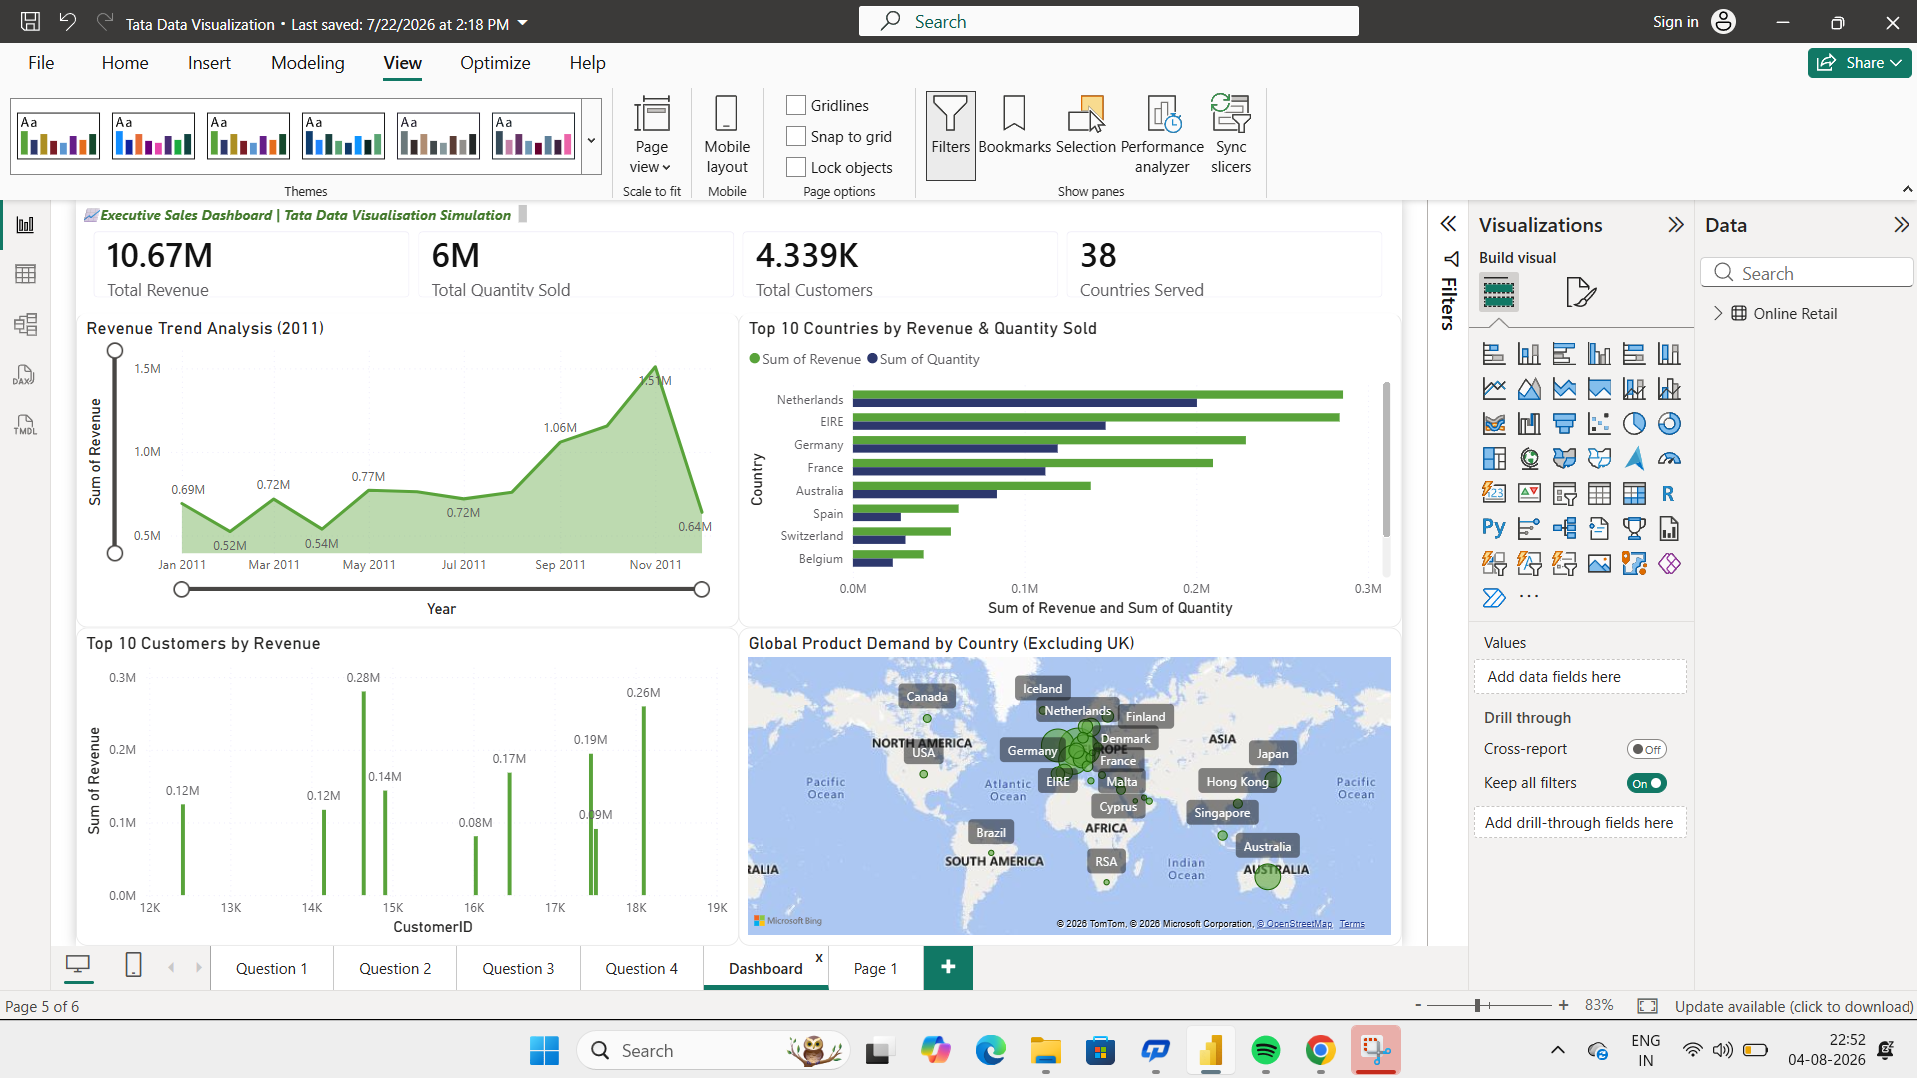

The page's visual inventory and layout, read from the dashboard file:
{"tool":"powerbi","page":{"name":"Dashboard","canvas":[1280,720],"ordinal":4},"visuals":[{"type":"lineChart","title":"Revenue Trend Analysis (2011)","fields":{"Category":["Online Retail.InvoiceDate.Variation.Date Hierarchy.Year","Online Retail.InvoiceDate.Variation.Date Hierarchy.Month"],"Y":["Sum(Online Retail.Revenue)"]},"box":[0,108.8,640,303.8],"z":0},{"type":"clusteredBarChart","title":"Top 10 Countries by Revenue & Quantity Sold","fields":{"Y":["Sum(Online Retail.Revenue)","Sum(Online Retail.Quantity)"],"Category":["Online Retail.Country"]},"box":[640,108.8,640,303.8],"z":1000},{"type":"clusteredColumnChart","title":"Top 10 Customers by Revenue","fields":{"Category":["Online Retail.CustomerID"],"Y":["Sum(Online Retail.Revenue)"]},"box":[0,412.5,640,307.5],"z":2000},{"type":"map","title":"Global Product Demand by Country (Excluding UK)","fields":{"Category":["Online Retail.Country"],"Size":["Sum(Online Retail.Quantity)"]},"box":[640,412.5,640,307.5],"z":3000},{"type":"cardVisual","fields":{"Data":["Sum(Online Retail.Revenue)","Sum(Online Retail.Quantity)","Count(Online Retail.CustomerID)","Count(Online Retail.Country)"]},"box":[0,13.8,1280,98.8],"z":4000},{"type":"textbox","box":[0,0,440,26.2],"z":5000}]}

Visuals, with their boxes on the page's 1280x720 design canvas (x1, y1, x2, y2). These are canvas units, not pixel positions in the 1917x1078 screenshot, which may show the page scaled, cropped or inside an application window:
"Revenue Trend Analysis (2011)" lineChart: locate(0, 109, 640, 413)
"Top 10 Countries by Revenue & Quantity Sold" clusteredBarChart: locate(640, 109, 1280, 413)
"Top 10 Customers by Revenue" clusteredColumnChart: locate(0, 412, 640, 720)
"Global Product Demand by Country (Excluding UK)" map: locate(640, 412, 1280, 720)
cardVisual - Sum(Online Retail.Revenue) x Sum(Online Retail.Quantity): locate(0, 14, 1280, 113)
textbox: locate(0, 0, 440, 26)
